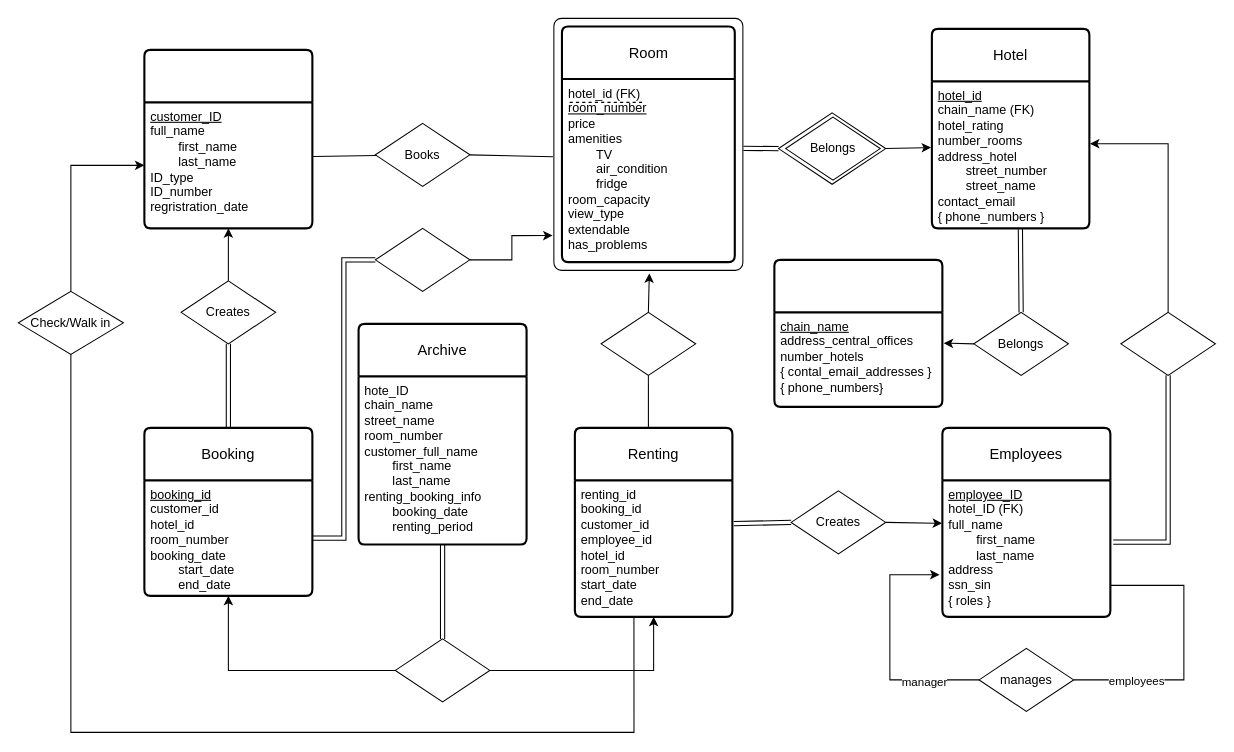
The diagram is 1234 pixels wide and 752 high, and some of its shapes have lost their labels. The box of each missing label's shape, as (x1, y1, x2, y2) in pixels:
Customers: (143, 48, 313, 229)
Hotel Chain: (773, 258, 943, 407)
Preserves: (394, 638, 490, 702)
Rented In: (600, 311, 696, 375)
Reserves: (374, 227, 470, 291)
Works in: (1120, 311, 1215, 375)
